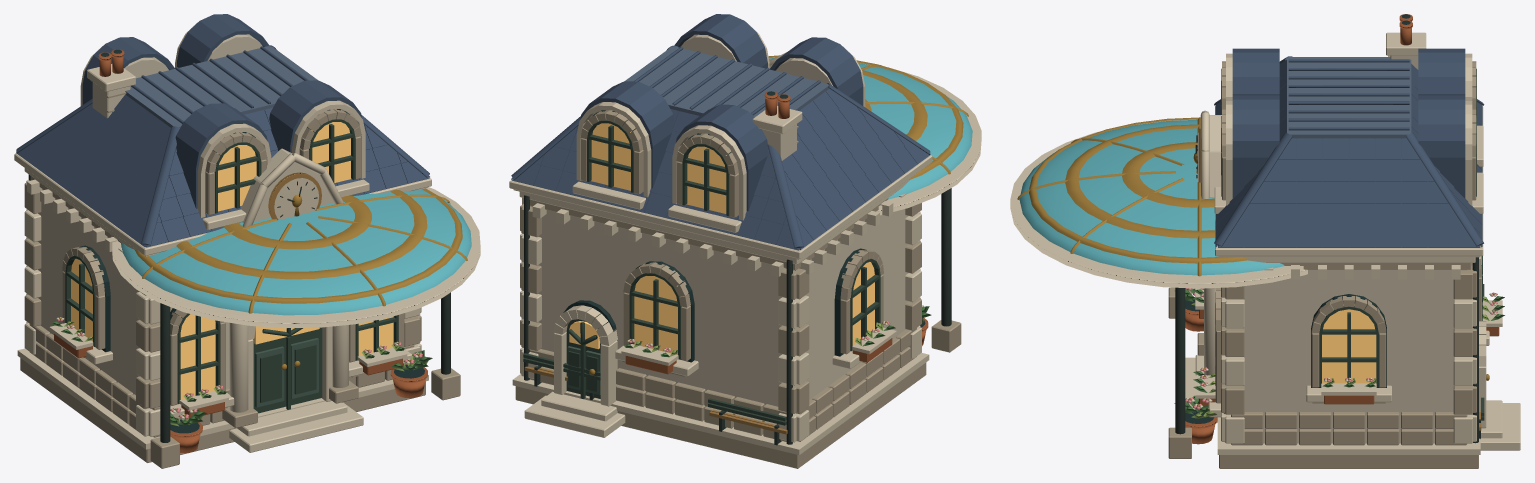
3 views of the same model, side by side, from view 1: azimuth 30°, elevation 25°; view 2: azimuth 150°, elevation 25°; view 3: azimuth 270°, elevation 25° (orthographic). The views are drawn at different scales.
Visible parts, largest first — view 1: classic_rush_station_geometry, classic_rush_station_geometry ceramic; view 2: classic_rush_station_geometry, classic_rush_station_geometry ceramic; view 3: classic_rush_station_geometry, classic_rush_station_geometry ceramic.
Part boxes in pixels (bbox=[...]): classic_rush_station_geometry: bbox=[14, 23, 480, 468]; classic_rush_station_geometry ceramic: bbox=[16, 14, 429, 247]; classic_rush_station_geometry: bbox=[509, 23, 981, 468]; classic_rush_station_geometry ceramic: bbox=[511, 14, 930, 250]; classic_rush_station_geometry: bbox=[1010, 14, 1520, 468]; classic_rush_station_geometry ceramic: bbox=[1214, 48, 1484, 247].
Bounding box in the file's own units: 0.7837 × 0.7609 × 1.04.
